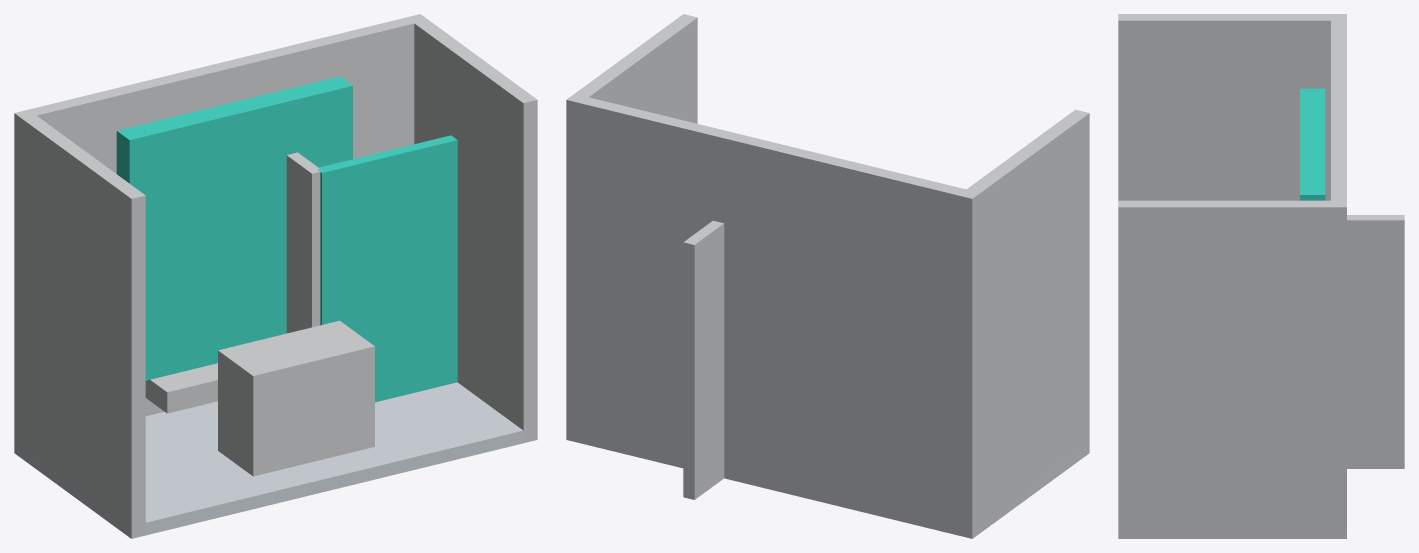
The picture shows the model from 3 angles, left to right: view 1: azimuth 30°, elevation 25°; view 2: azimuth 150°, elevation 25°; view 3: azimuth 270°, elevation 25°; orthographic projection. The views are drawn at different scales.
Parts seen in each view (by area): view 1: Exhibition Booth Concept; view 2: Exhibition Booth Concept; view 3: Exhibition Booth Concept.
Part boxes in pixels (x1,y1,x2,y2): Exhibition Booth Concept: (14,14,537,538); Exhibition Booth Concept: (566,14,1089,538); Exhibition Booth Concept: (1118,14,1404,538).
Size of the model in its own units: 4 by 3.2 by 2.5.
